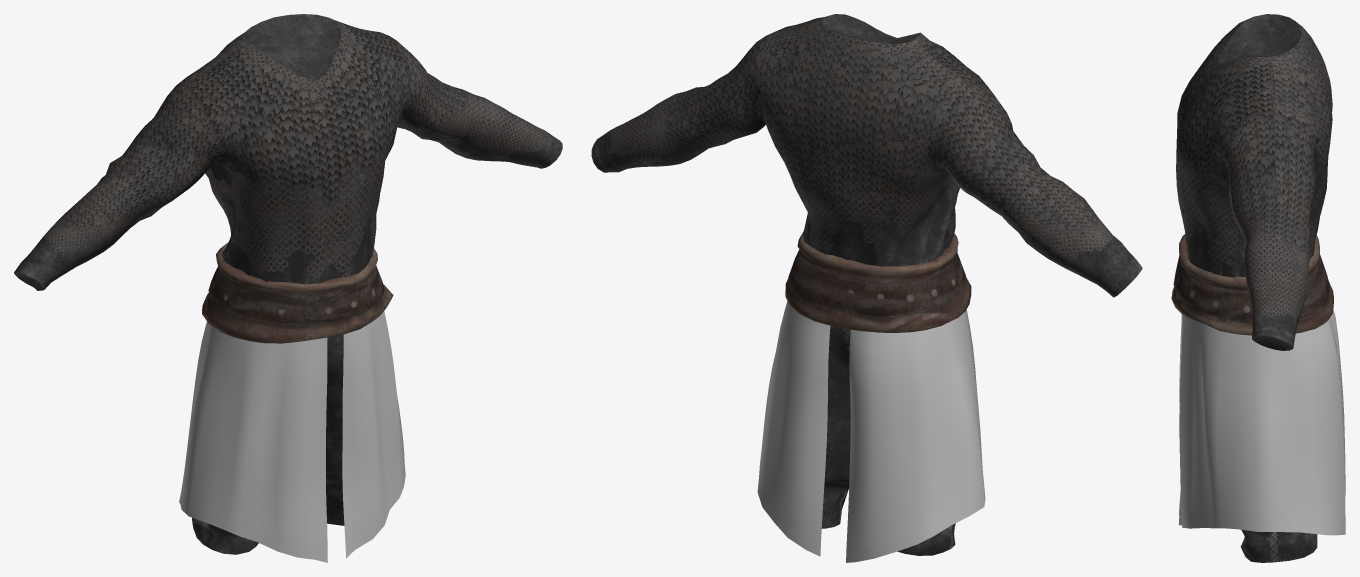
The model's file is sk_dg_uruk_chest_light_d.fbx.
The picture shows the model from 3 angles, left to right: view 1: azimuth 30°, elevation 25°; view 2: azimuth 150°, elevation 25°; view 3: azimuth 270°, elevation 25°; orthographic projection. The views are drawn at different scales.
Visible parts, largest first — view 1: sk_dg_uruk_chest_light_d.1, sk_dg_uruk_chest_light_d.skirt, sk_dg_uruk_chest_light_d.0; view 2: sk_dg_uruk_chest_light_d.1, sk_dg_uruk_chest_light_d.skirt, sk_dg_uruk_chest_light_d.0; view 3: sk_dg_uruk_chest_light_d.1, sk_dg_uruk_chest_light_d.skirt, sk_dg_uruk_chest_light_d.0.
Part boxes in pixels (x1,y1,x2,y2): sk_dg_uruk_chest_light_d.1: (14,14,562,343); sk_dg_uruk_chest_light_d.skirt: (179,311,405,562); sk_dg_uruk_chest_light_d.0: (192,334,344,554); sk_dg_uruk_chest_light_d.1: (591,14,1142,332); sk_dg_uruk_chest_light_d.skirt: (757,301,985,562); sk_dg_uruk_chest_light_d.0: (821,325,955,555); sk_dg_uruk_chest_light_d.1: (1171,14,1333,350); sk_dg_uruk_chest_light_d.skirt: (1178,309,1345,535); sk_dg_uruk_chest_light_d.0: (1240,529,1317,562).
Bounding box in the file's own units: 1.35 × 0.3838 × 1.2.
